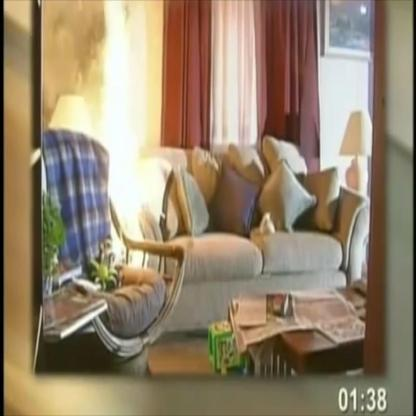fire: (99, 8, 147, 266)
